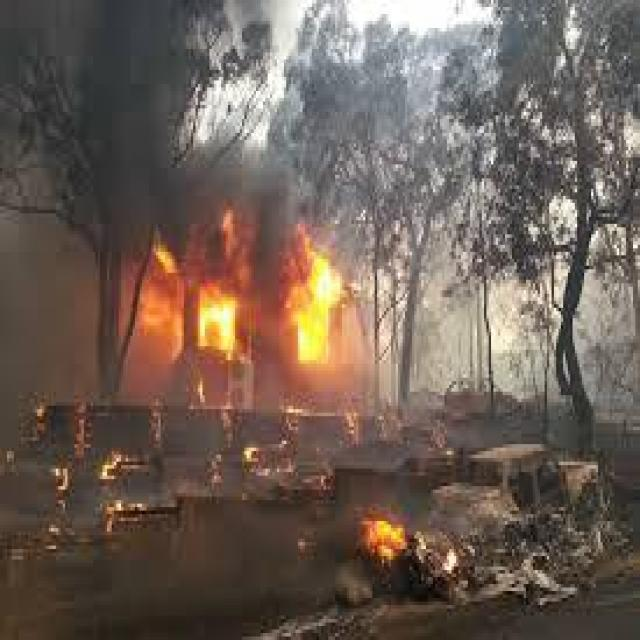Fire: (136, 212, 241, 366)
Smoke: (0, 0, 174, 428)
